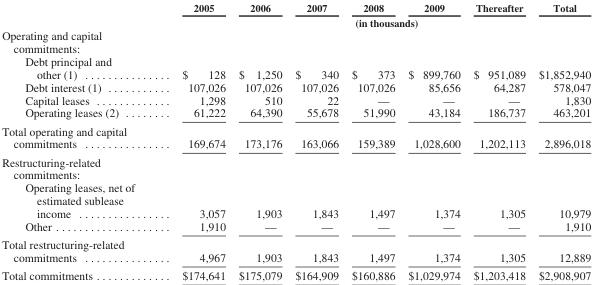table: (1, 0, 590, 281)
table column: (1, 0, 157, 281), (157, 0, 231, 281), (401, 0, 466, 281), (466, 0, 531, 281), (531, 0, 590, 281), (287, 0, 344, 281), (344, 0, 401, 281), (231, 0, 287, 281)
table column header: (1, 0, 590, 28)
table projected row header: (1, 152, 590, 180), (1, 28, 590, 54)
table row: (1, 180, 590, 219), (1, 121, 590, 152), (1, 235, 590, 266), (1, 152, 590, 180), (1, 28, 590, 54), (1, 54, 590, 80), (1, 219, 590, 235), (1, 106, 590, 121), (1, 266, 590, 281), (1, 0, 590, 14), (1, 14, 590, 28), (1, 80, 590, 93), (1, 93, 590, 106)
table spanning cell: (157, 14, 590, 28)
